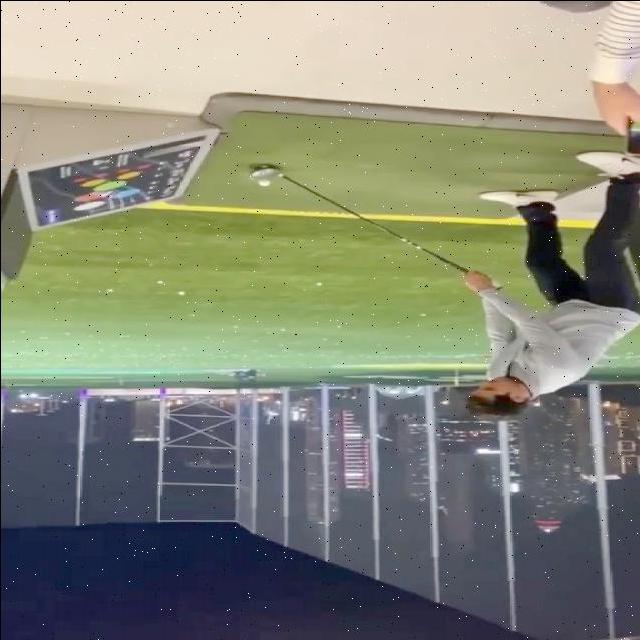ClubHandle: (249, 163, 500, 289)
ClubHead: (249, 163, 279, 179)
GolfBall: (258, 179, 271, 185)
